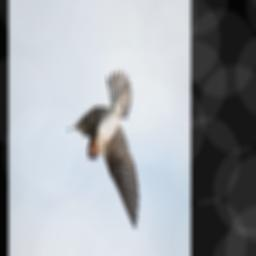Swallow: (66, 66, 141, 232)
